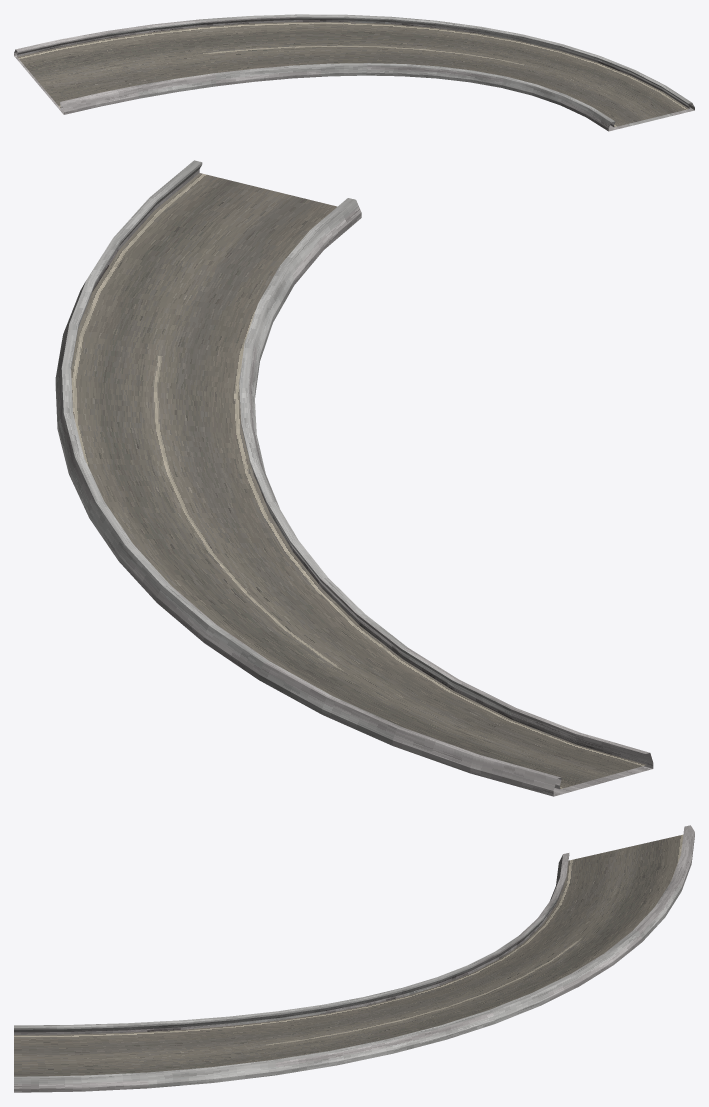
Rendered from turn-left5x5.glb.
The picture shows the model from 3 angles, top to bottom: view 1: azimuth 30°, elevation 25°; view 2: azimuth 150°, elevation 25°; view 3: azimuth 270°, elevation 25°; orthographic projection. The views are drawn at different scales.
Parts seen in each view (by area): view 1: road-Turn-Flat-HalfBankedLeft-Down2-Left-Size5; view 2: road-Turn-Flat-HalfBankedLeft-Down2-Left-Size5; view 3: road-Turn-Flat-HalfBankedLeft-Down2-Left-Size5.
Boxes of the visible parts, x1,y1,x2,y2 form: road-Turn-Flat-HalfBankedLeft-Down2-Left-Size5: [14, 14, 694, 131]; road-Turn-Flat-HalfBankedLeft-Down2-Left-Size5: [55, 160, 653, 796]; road-Turn-Flat-HalfBankedLeft-Down2-Left-Size5: [14, 825, 694, 1092].
Size of the model in its own units: 5 by 0.5938 by 5.
2 materials, 2 textured.
